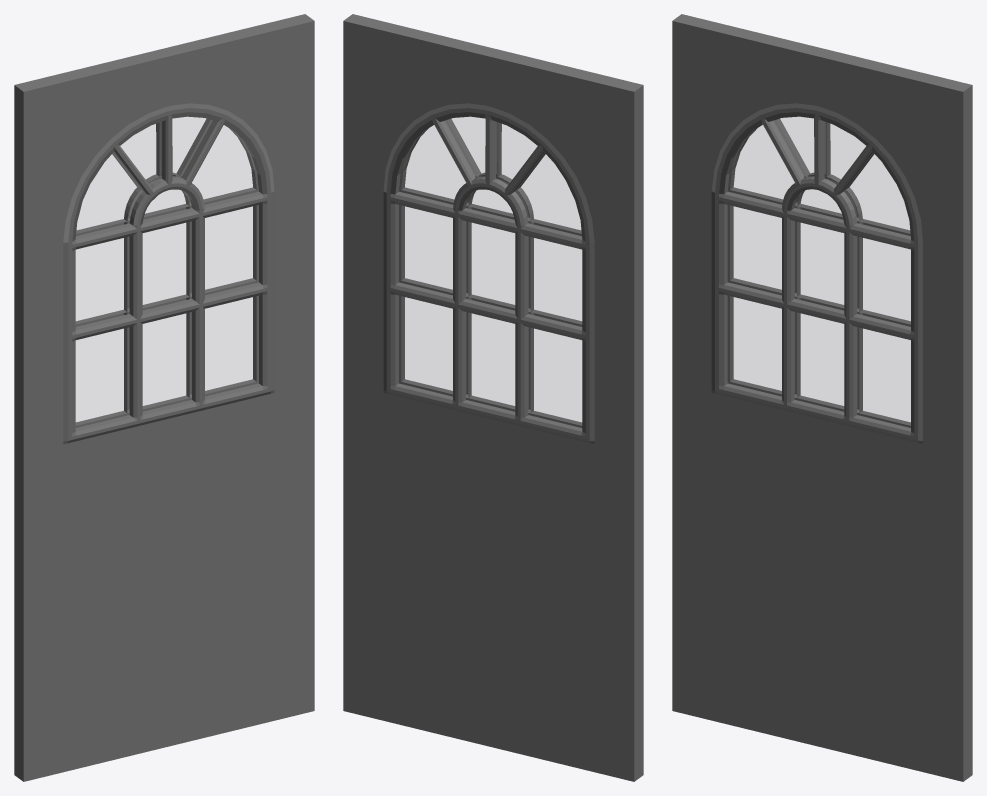
File: DoorV1.glb
3 renders of one model, left to right at view 1: azimuth 30°, elevation 25°; view 2: azimuth 150°, elevation 25°; view 3: azimuth 330°, elevation 25°, orthographic.
Visible parts, largest first — view 1: Plane; view 2: Plane; view 3: Plane.
Boxes of the visible parts, x1,y1,x2,y2 form: Plane: [14, 14, 314, 781]; Plane: [343, 14, 643, 781]; Plane: [672, 14, 972, 781].
Size of the model in its own units: 0.94 by 2.13 by 0.0636.
2 materials, 1 textured.
